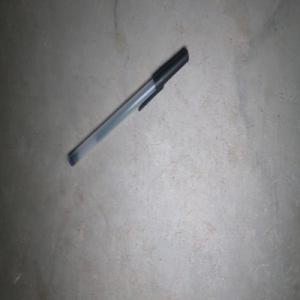Pen: (68, 47, 188, 166)
